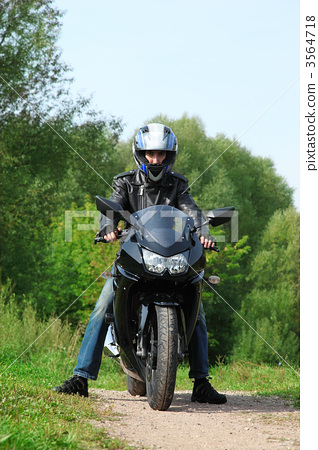helmet: (126, 123, 185, 190)
